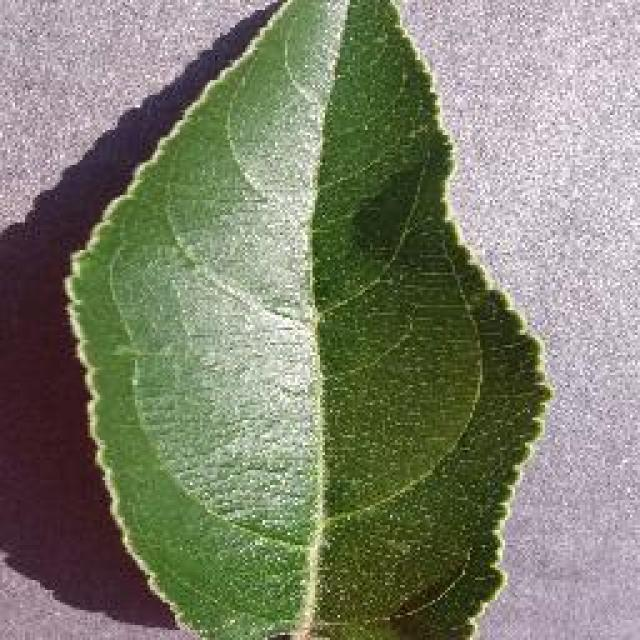apple healthy: (60, 0, 552, 638)
